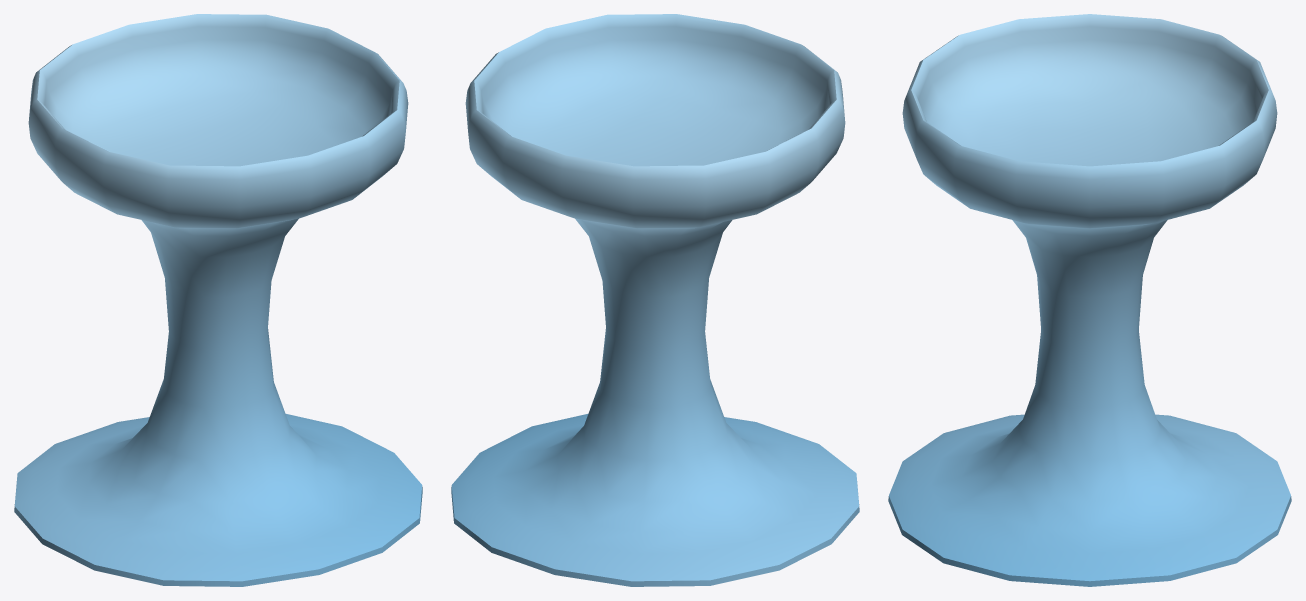
The model's file is pohar2.fbx.
The picture shows the model from 3 angles, left to right: view 1: azimuth 30°, elevation 25°; view 2: azimuth 150°, elevation 25°; view 3: azimuth 270°, elevation 25°; orthographic projection.
Parts seen in each view (by area): view 1: pohar2; view 2: pohar2; view 3: pohar2.
Boxes of the visible parts, left/top/right/bottom form: pohar2: left=14, top=14, right=422, bottom=586; pohar2: left=451, top=14, right=859, bottom=586; pohar2: left=888, top=14, right=1291, bottom=586.
Bounding box in the file's own units: 0.0686 × 0.0787 × 0.068.
Materials: 1 (1 with a texture image).
